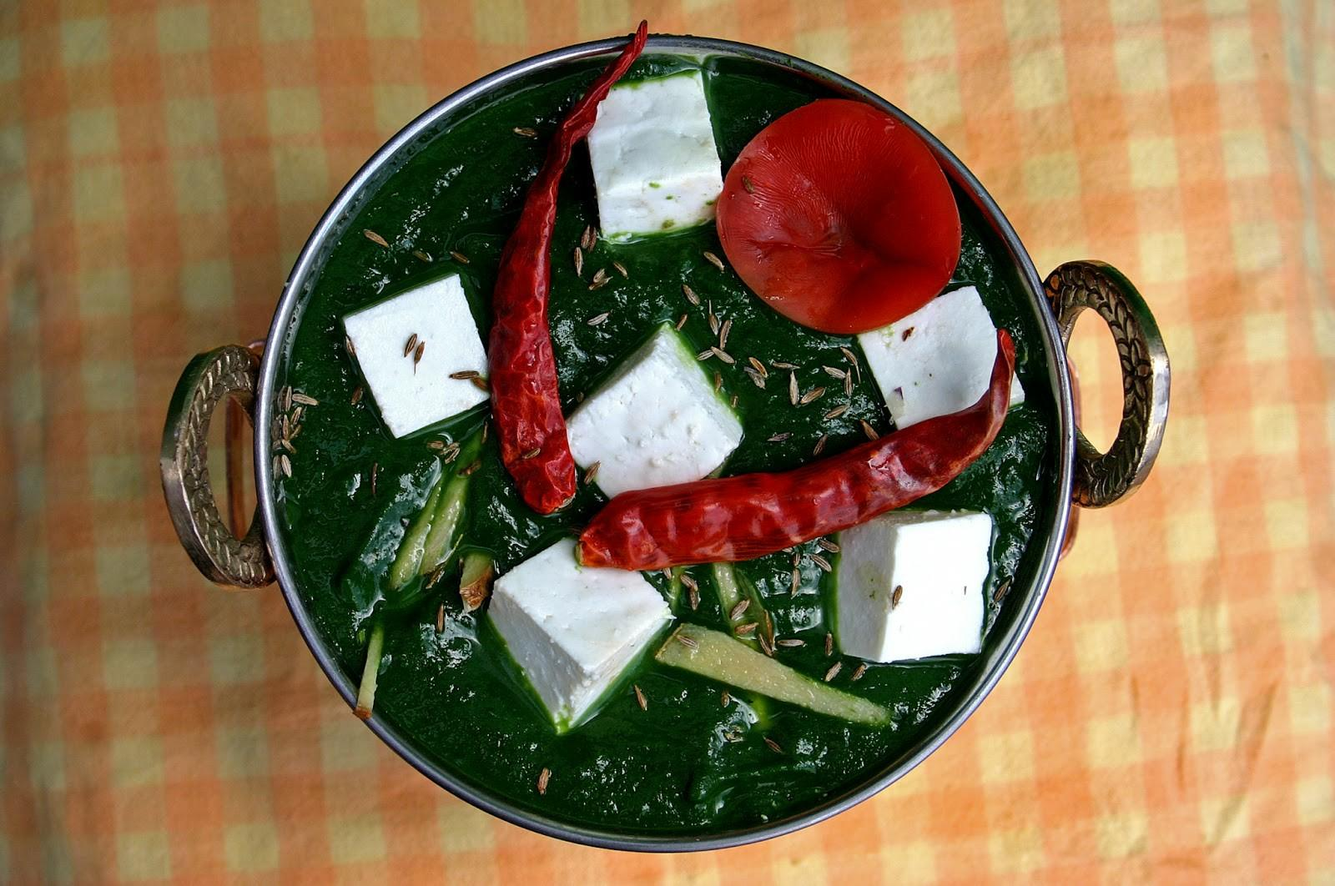PalakPaneer: (284, 59, 1045, 839)
